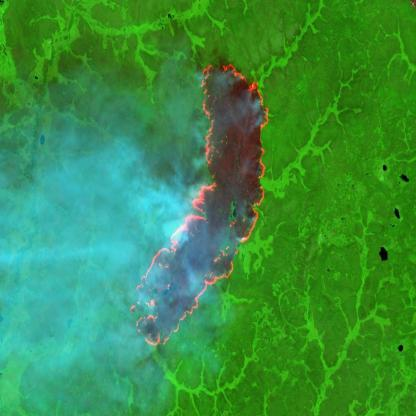fire: (130, 54, 272, 353)
